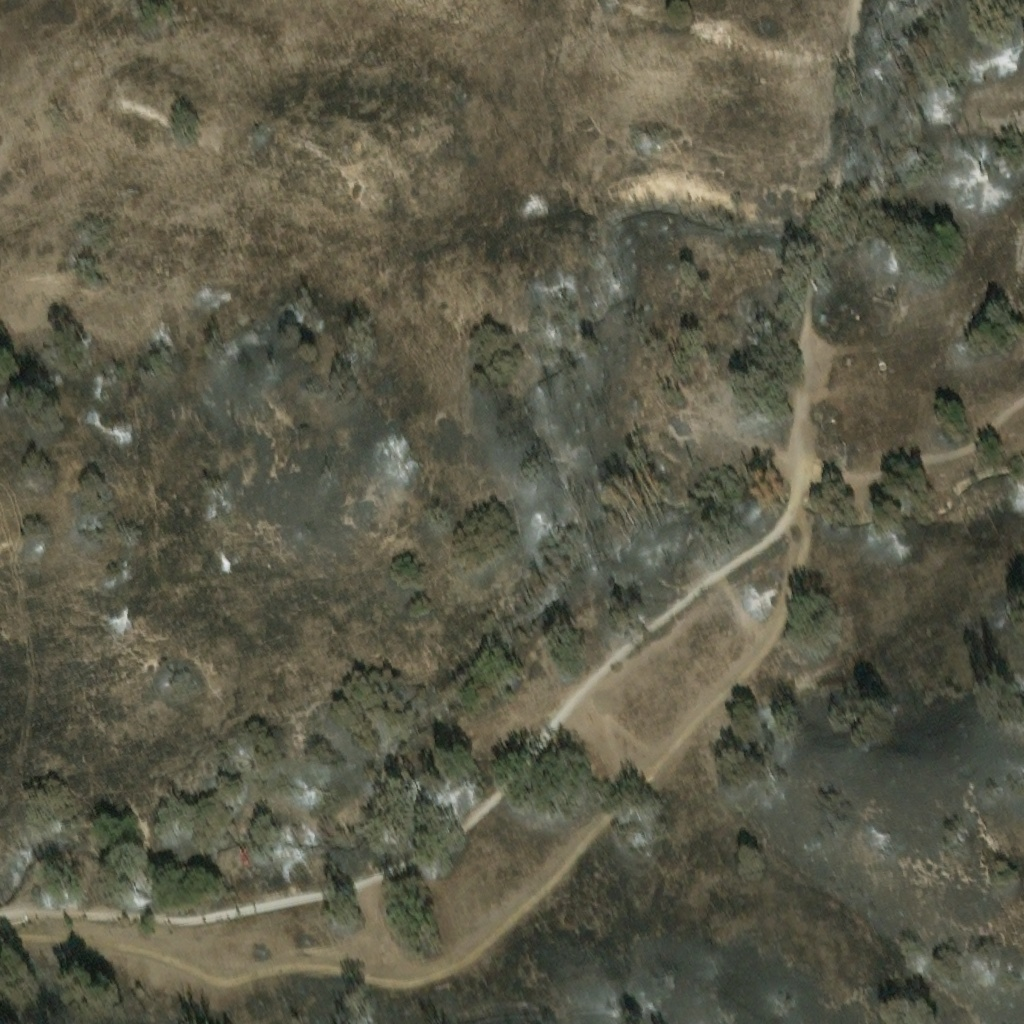4 un-classified: (808, 478, 823, 489)
